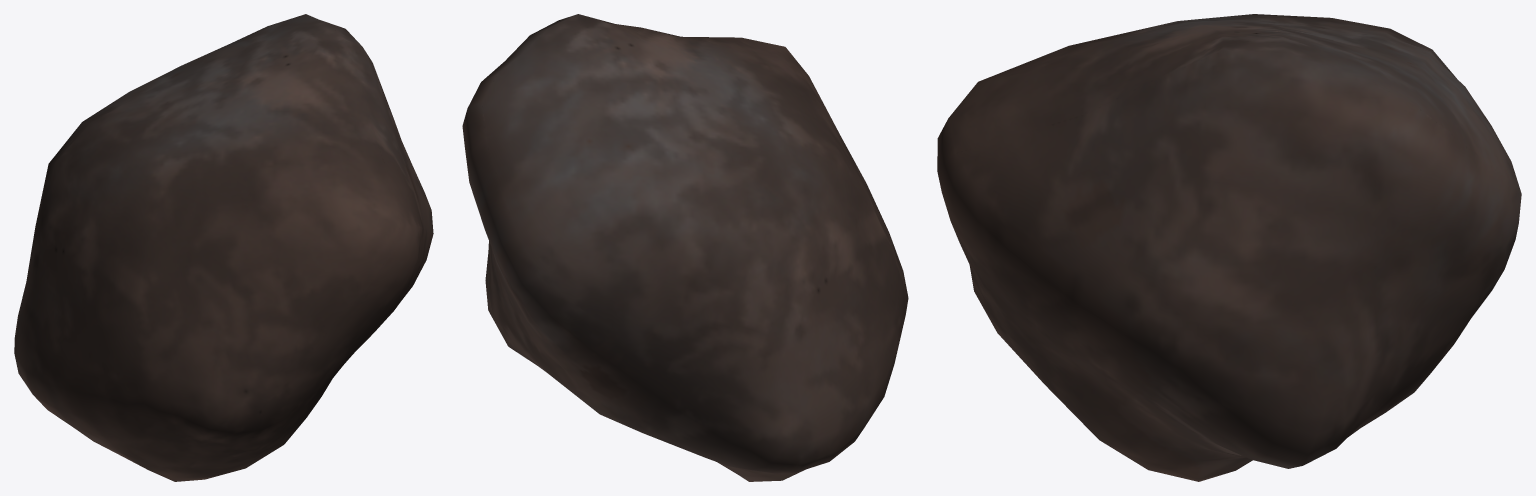
The model's file is Asteroid1.fbx.
The picture shows the model from 3 angles, left to right: view 1: azimuth 30°, elevation 25°; view 2: azimuth 150°, elevation 25°; view 3: azimuth 270°, elevation 25°; orthographic projection. The views are drawn at different scales.
Visible parts, largest first — view 1: pCube1; view 2: pCube1; view 3: pCube1.
Part boxes in pixels (x1=…): pCube1: x1=14, y1=14, x2=433, y2=481; pCube1: x1=462, y1=14, x2=908, y2=481; pCube1: x1=937, y1=14, x2=1521, y2=481.
Size of the model in its own units: 6.72 by 7.29 by 7.26.
